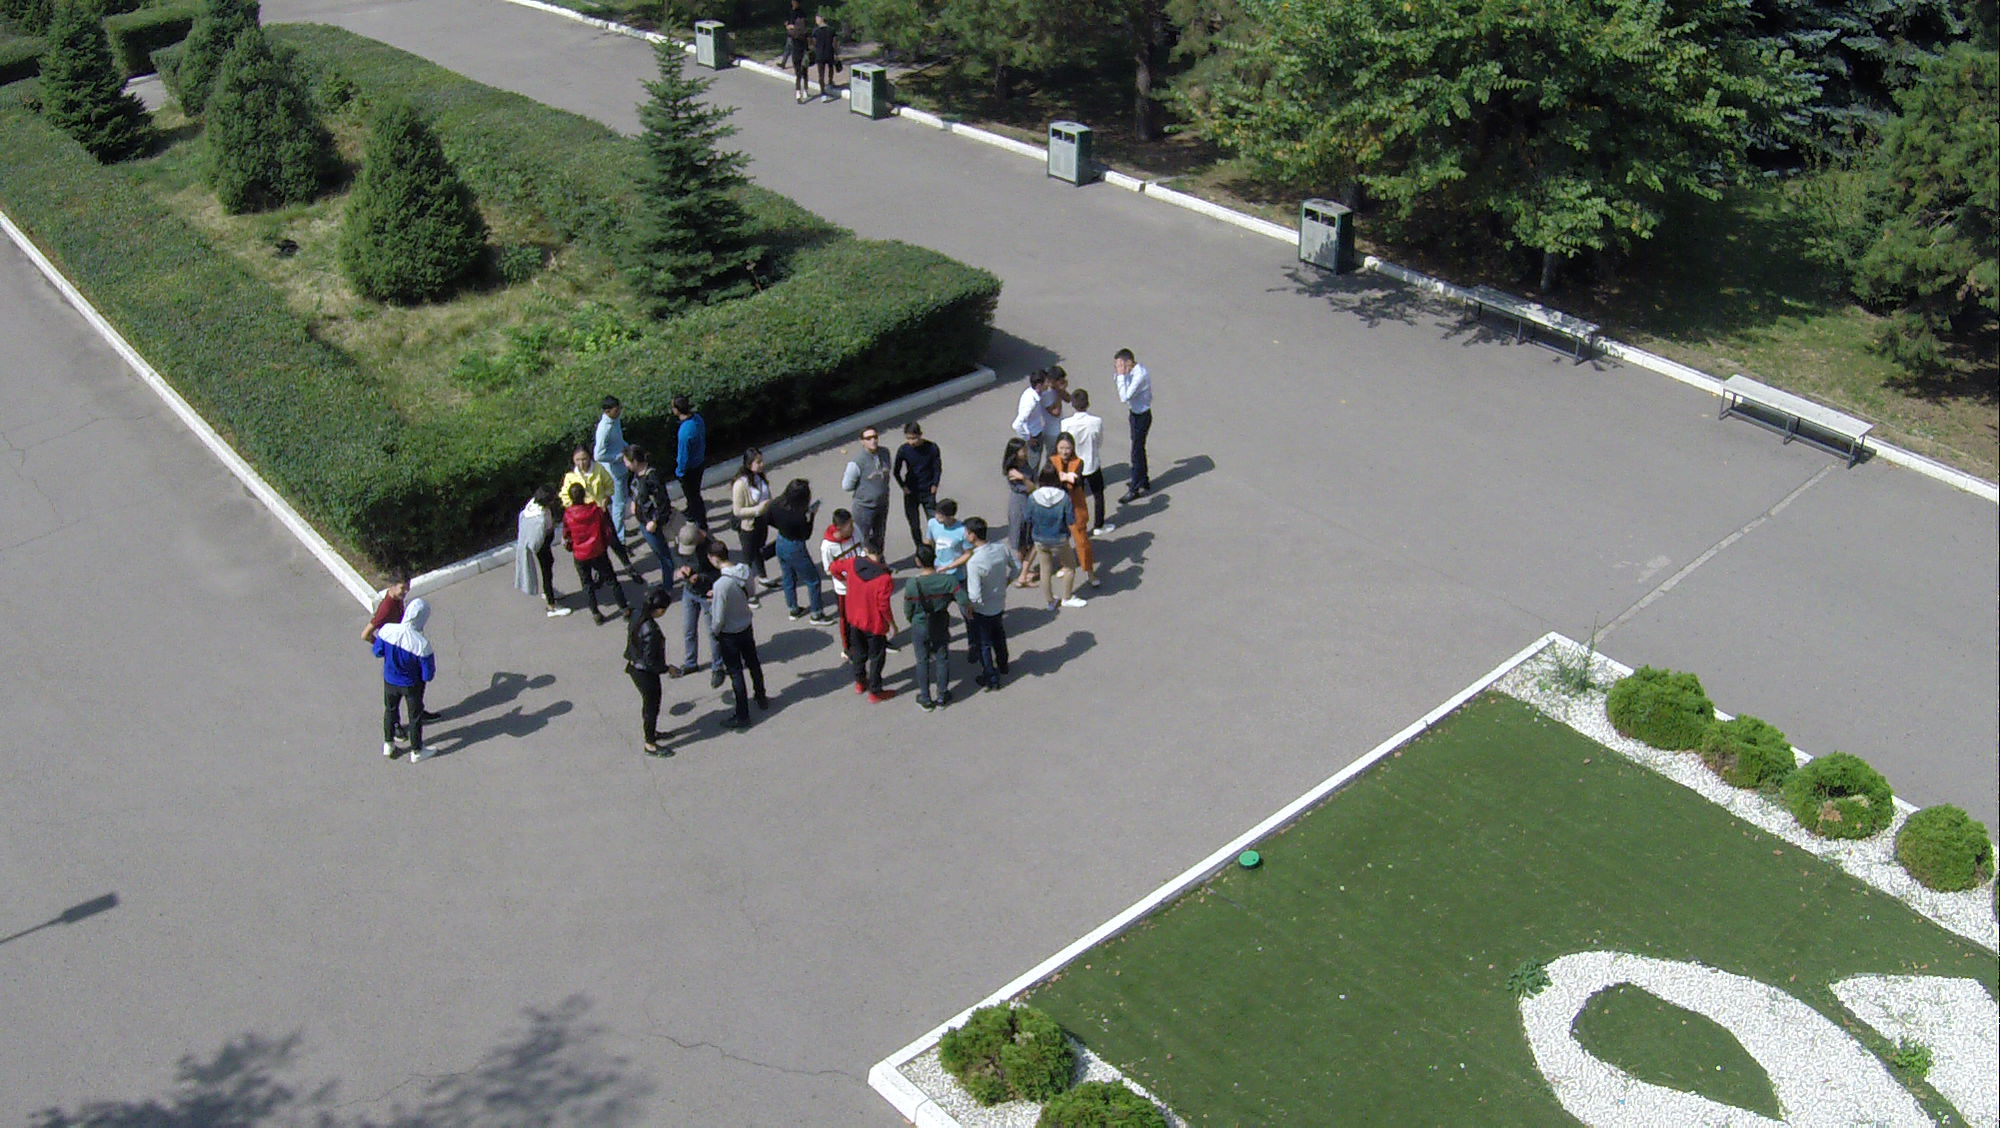person: (705, 549, 778, 730), (385, 593, 441, 768), (1105, 347, 1164, 512), (626, 595, 682, 768), (664, 526, 726, 676), (903, 537, 951, 705), (835, 422, 897, 545), (770, 487, 828, 618), (572, 495, 626, 628), (512, 476, 562, 618), (847, 553, 891, 708), (970, 522, 1010, 693), (591, 391, 639, 526), (1057, 439, 1097, 595), (670, 393, 716, 526), (920, 499, 968, 603), (903, 412, 943, 528), (560, 430, 607, 510), (778, 14, 818, 99), (1064, 393, 1101, 474), (814, 14, 849, 97), (732, 453, 764, 537), (366, 576, 410, 626), (814, 508, 853, 564)
